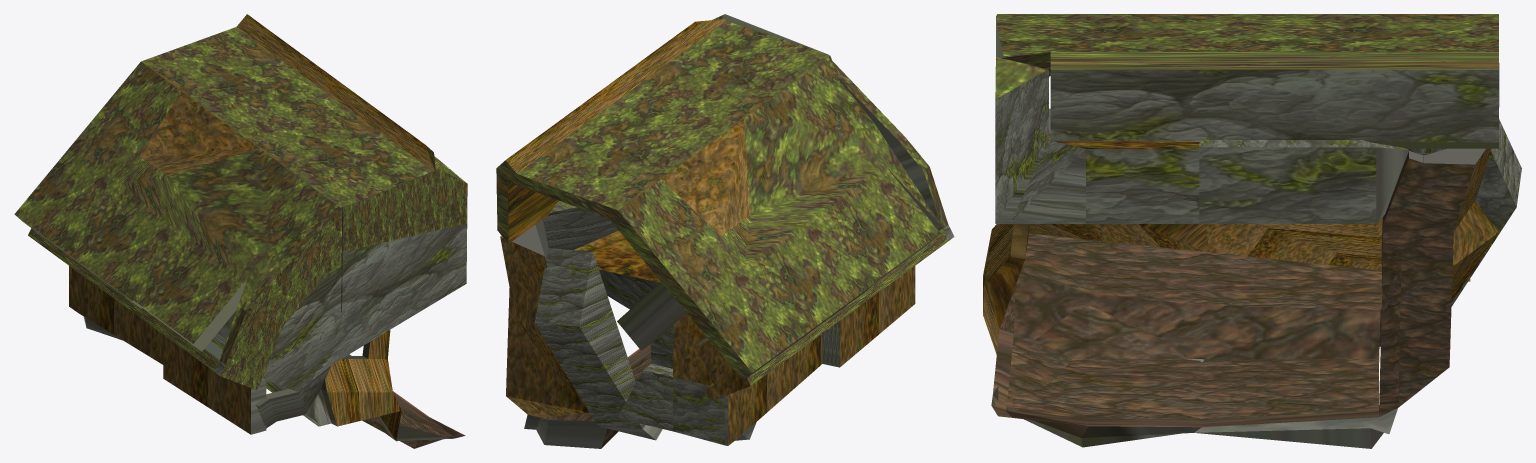
Rendered from tree.glb.
3 views of the same model, side by side, from view 1: azimuth 30°, elevation 25°; view 2: azimuth 150°, elevation 25°; view 3: azimuth 270°, elevation 25° (orthographic). The views are drawn at different scales.
Parts seen in each view (by area): view 1: Cube.002; view 2: Cube.002; view 3: Cube.002.
Part boxes in pixels (x1,y1,x2,y2): Cube.002: (14, 14, 467, 448); Cube.002: (496, 14, 954, 448); Cube.002: (983, 14, 1521, 448).
Bounding box in the file's own units: 40.03 × 46.39 × 57.41.
4 materials, 4 textured.
